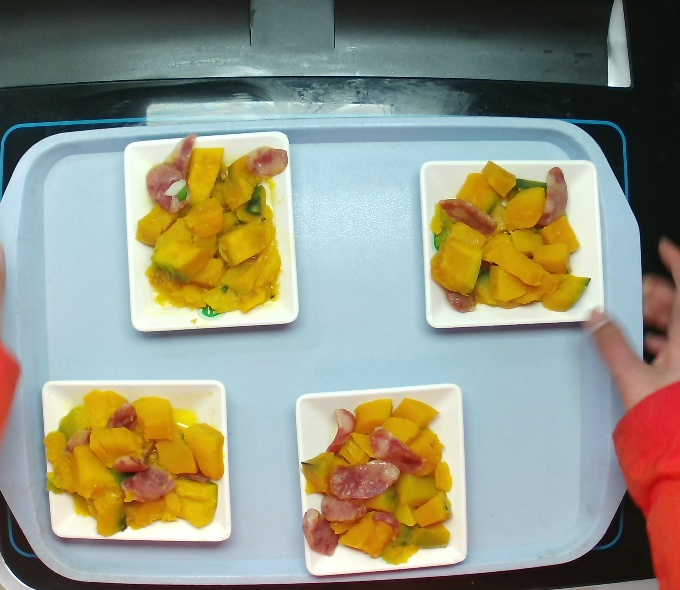wcq-NanGuaChaoXiangChang: (28, 379, 231, 543), (137, 129, 291, 331), (298, 384, 459, 572), (428, 160, 591, 319)
